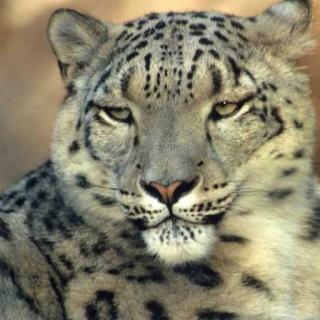Leopard: (33, 0, 320, 320)
